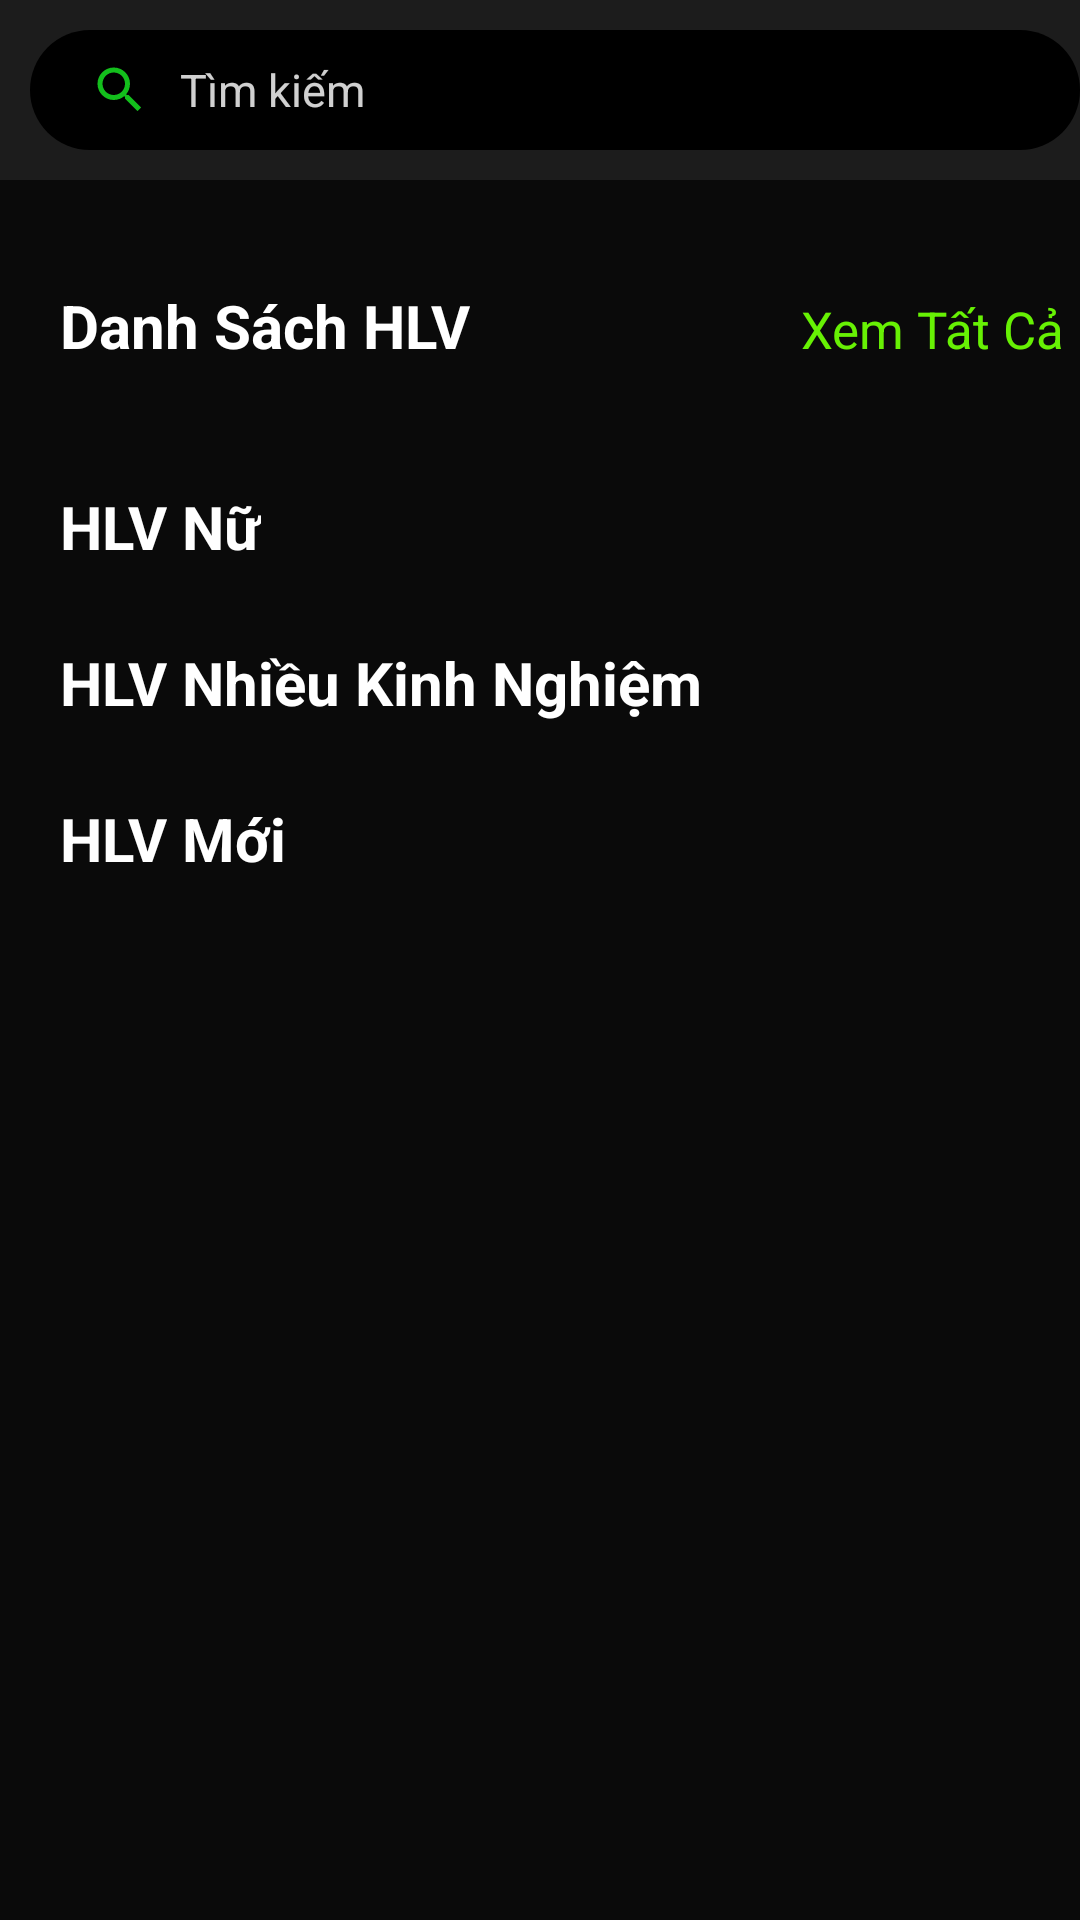

Named icons in this screenshot (1080 × 1920) and their bounding boxes, [x1, y1, x2, y2]:
search: [97, 67, 141, 111]
